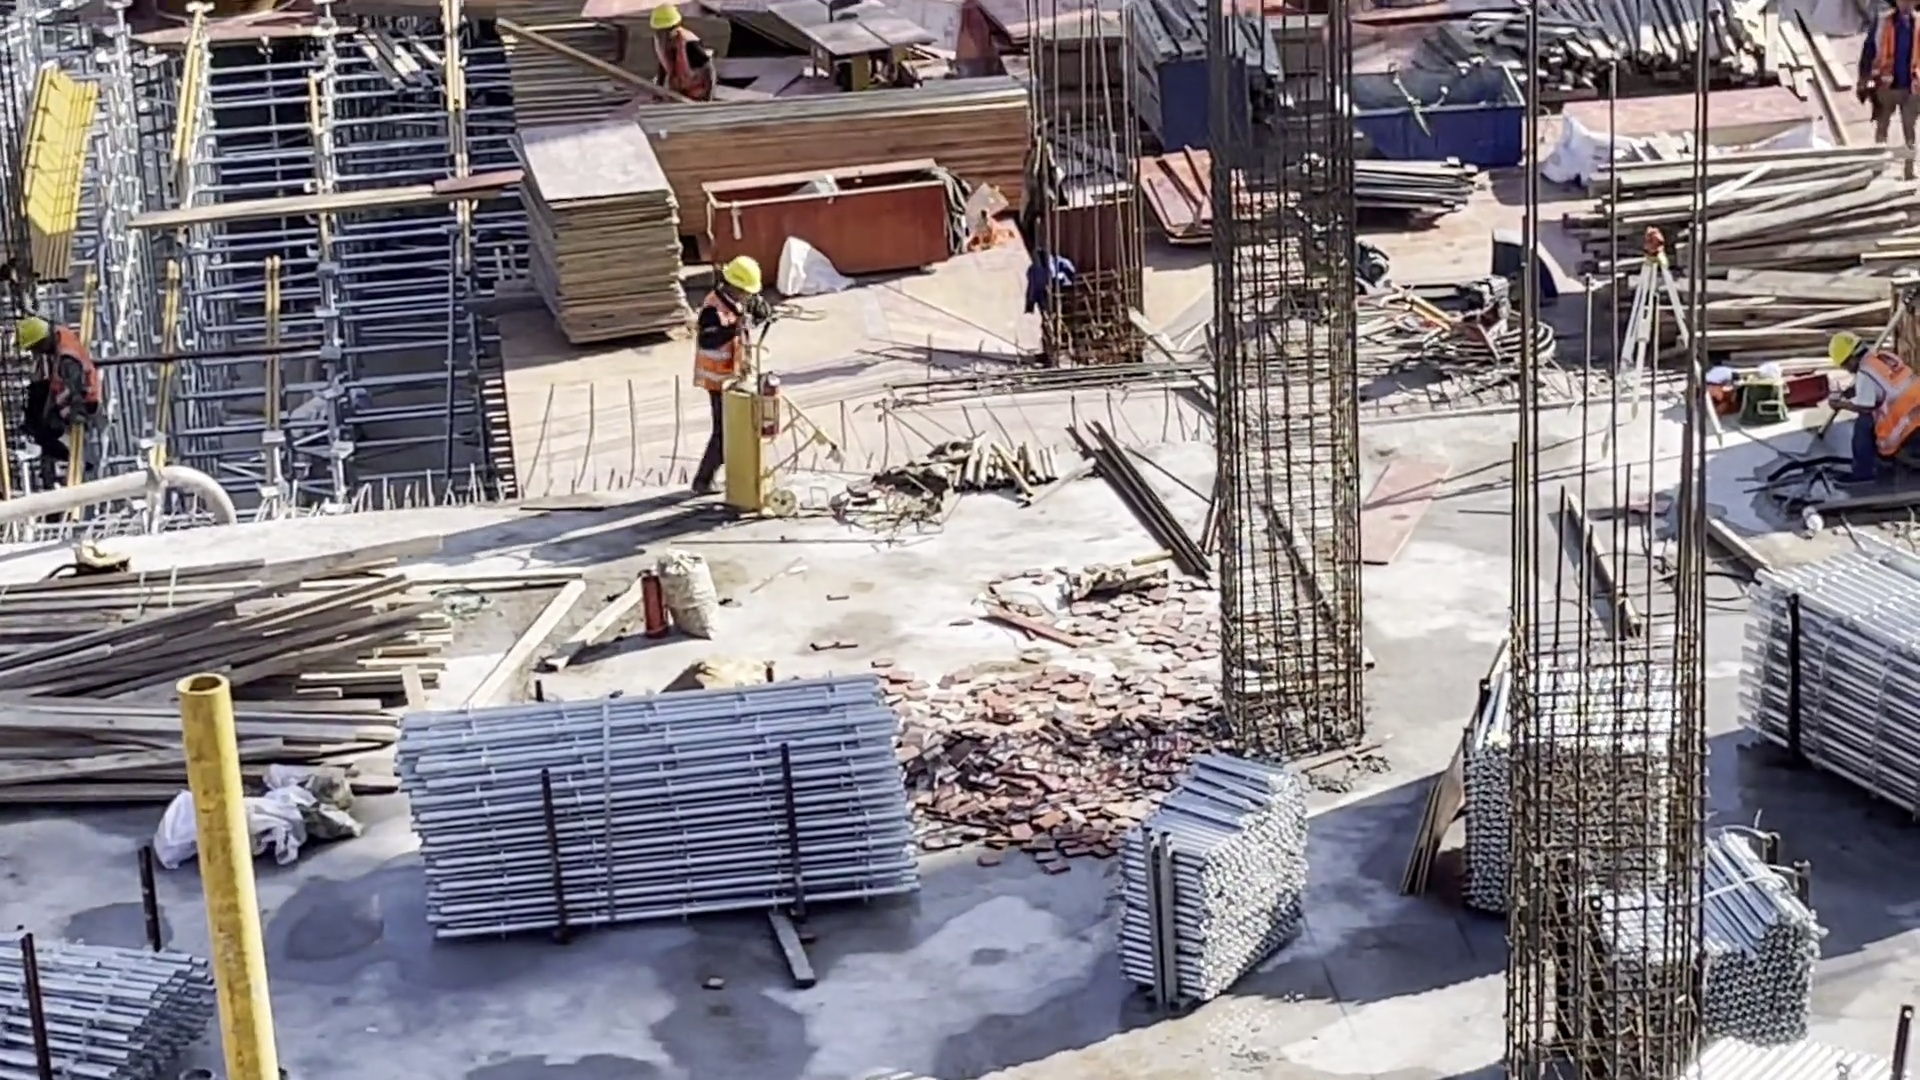board: (513, 119, 691, 362)
helmet: (721, 254, 761, 295), (1836, 331, 1862, 373), (24, 316, 51, 349), (654, 8, 681, 34)
hopper: (1335, 68, 1529, 171)
person: (688, 254, 767, 498), (19, 316, 121, 457), (1832, 320, 1920, 472), (1858, 1, 1920, 176), (645, 5, 710, 106)
scaffold: (1473, 534, 1920, 1054), (395, 668, 928, 939), (1122, 752, 1307, 1000), (1, 920, 209, 1080)
vest: (699, 291, 750, 402), (1869, 347, 1920, 456), (1872, 8, 1920, 104), (58, 324, 100, 410), (652, 38, 707, 93)
wood: (1566, 141, 1920, 372), (647, 82, 1037, 202), (1483, 5, 1837, 102)
